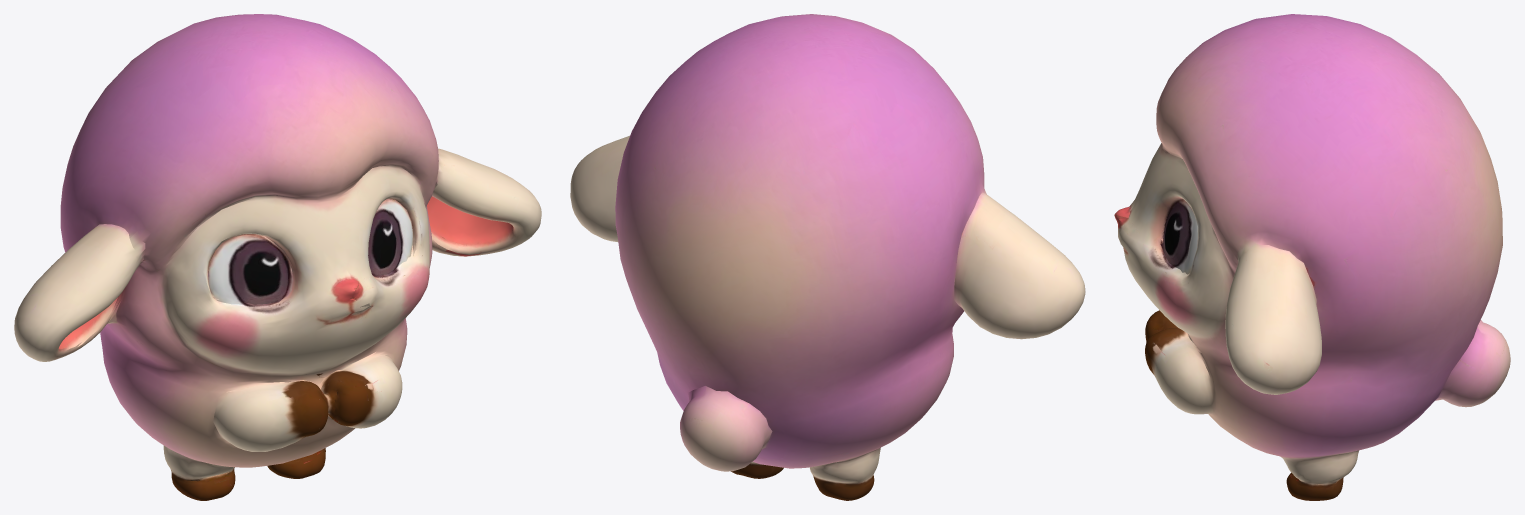
The model's file is mongsil.glb.
The picture shows the model from 3 angles, left to right: view 1: azimuth 30°, elevation 25°; view 2: azimuth 150°, elevation 25°; view 3: azimuth 270°, elevation 25°; orthographic projection. The views are drawn at different scales.
Visible parts, largest first — view 1: Mesh_0; view 2: Mesh_0; view 3: Mesh_0.
Part boxes in pixels (<box>): Mesh_0: <box>14,14,541,500</box>; Mesh_0: <box>570,14,1085,500</box>; Mesh_0: <box>1114,14,1510,500</box>.
Size of the model in its own units: 1.19 by 1 by 0.8121.
Materials: 1 (1 with a texture image).
